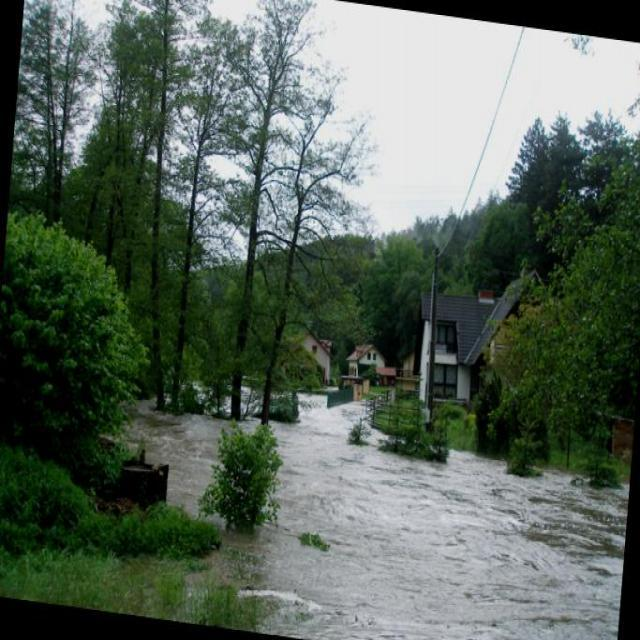flood: (92, 348, 634, 639)
